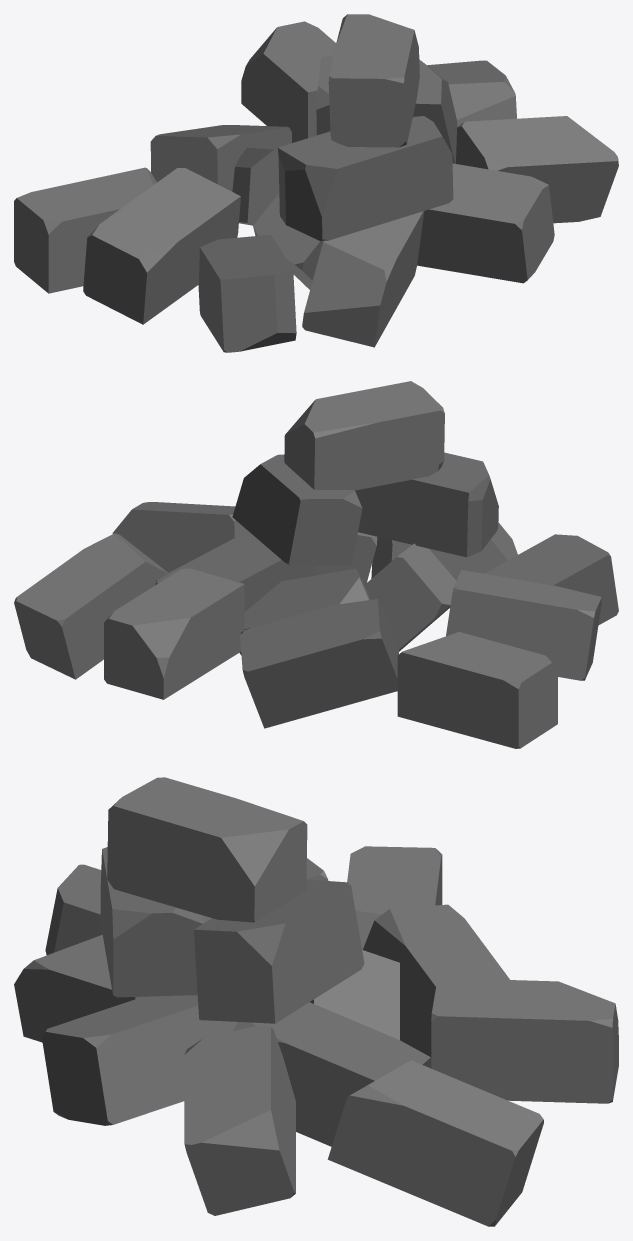
File: Wall_05.fbx
The picture shows the model from 3 angles, top to bottom: view 1: azimuth 30°, elevation 25°; view 2: azimuth 150°, elevation 25°; view 3: azimuth 270°, elevation 25°; orthographic projection. The views are drawn at different scales.
Parts seen in each view (by area): view 1: Wall_05_LOD0; view 2: Wall_05_LOD0; view 3: Wall_05_LOD0.
Part boxes in pixels (x1=…): Wall_05_LOD0: x1=14, y1=14, x2=618, y2=352; Wall_05_LOD0: x1=14, y1=381, x2=618, y2=748; Wall_05_LOD0: x1=14, y1=777, x2=618, y2=1226.
Size of what is drawn, in the model's own units: 2.83 by 1.51 by 2.46.
